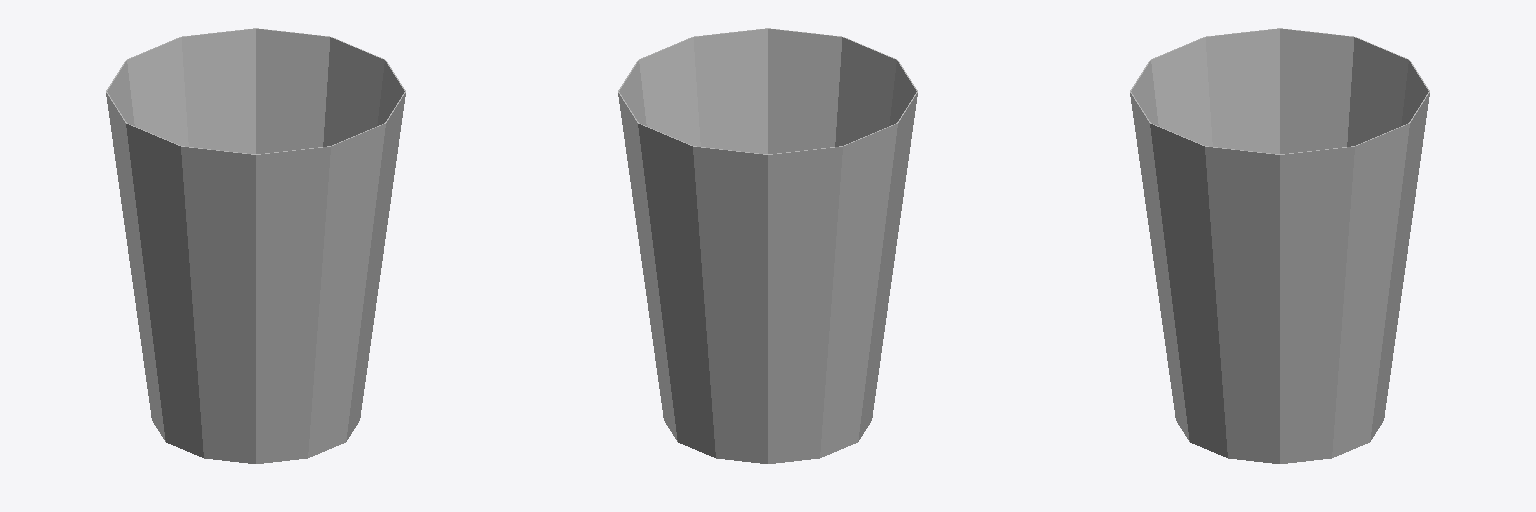
File: Cup2_collider.obj
3 views of the same model, side by side, from view 1: azimuth 30°, elevation 25°; view 2: azimuth 150°, elevation 25°; view 3: azimuth 270°, elevation 25° (orthographic).
Parts seen in each view (by area): view 1: Cylinder.001; view 2: Cylinder.001; view 3: Cylinder.001.
Boxes of the visible parts, <box> form: Cylinder.001: <box>106,28,405,463</box>; Cylinder.001: <box>618,28,917,463</box>; Cylinder.001: <box>1130,28,1429,463</box>.
Bounding box in the file's own units: 2.89 × 3.48 × 2.89.